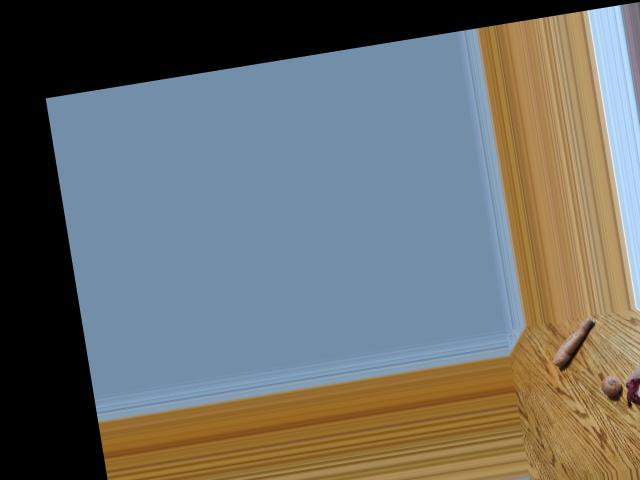onion: (623, 373, 640, 405)
